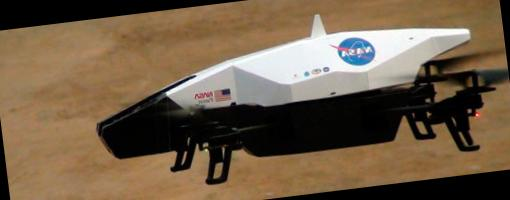drone: (136, 34, 510, 189)
